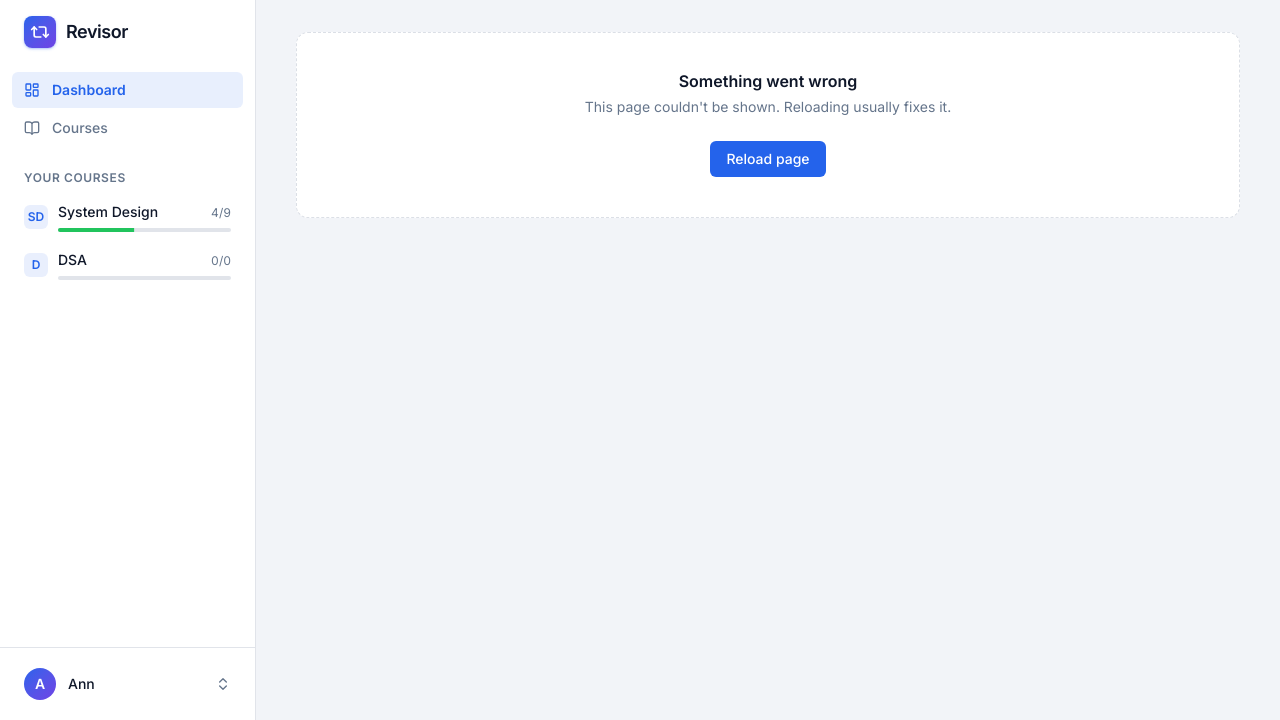
Scenario: pages that load on demand › lets the user navigate away from a failed page
The width and height of the screenshot is (1280, 720).
Expected: the text "Something went wrong" is shown, 679,71 -> 857,91
Click the link "Courses" at (66, 128), box 24,119 -> 108,136
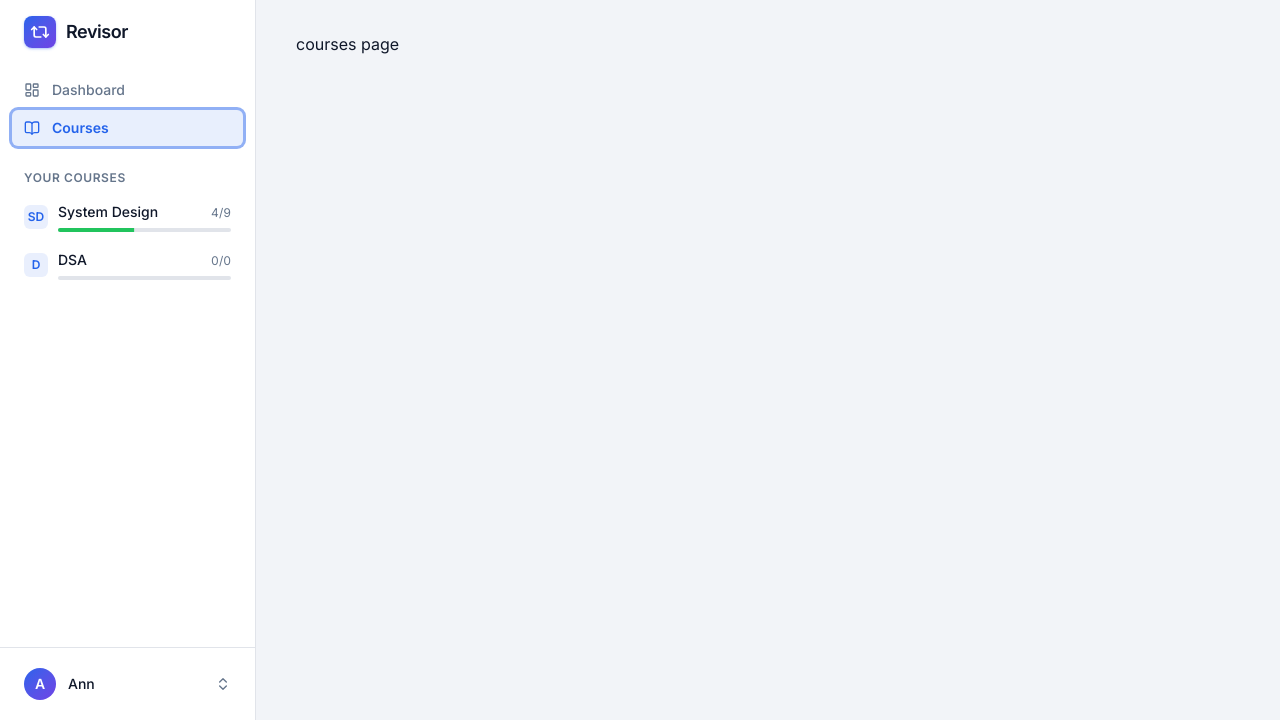
Expected: the text "courses page" is shown, 296,34 -> 399,54
Expected: the text "Something went wrong" is gone
